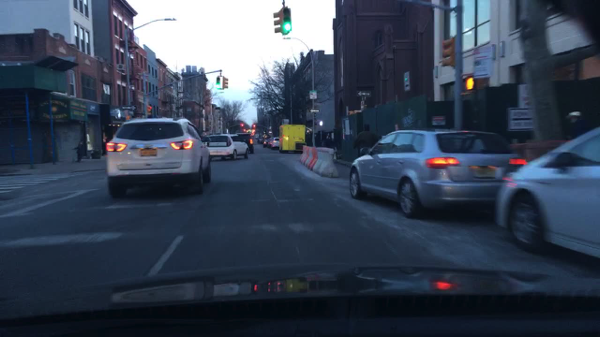car: (347, 128, 527, 219), (491, 128, 599, 261), (105, 117, 212, 199), (204, 133, 249, 160), (239, 133, 256, 155), (271, 138, 279, 148), (267, 139, 272, 147), (263, 140, 266, 146)
person: (563, 111, 587, 139), (353, 124, 375, 153)
traffic light: (441, 37, 455, 67), (462, 74, 476, 96), (281, 7, 291, 34), (274, 9, 281, 34), (222, 76, 228, 90), (147, 106, 152, 117), (215, 76, 219, 89), (316, 121, 322, 127), (240, 123, 243, 128), (253, 124, 256, 129)
traffic sign: (508, 108, 534, 132), (357, 91, 370, 97), (310, 91, 316, 100), (310, 108, 319, 114), (123, 106, 136, 110), (129, 111, 135, 116)
truck: (279, 124, 305, 153)
